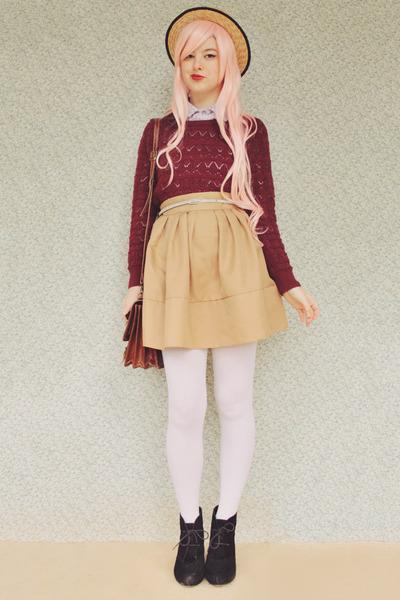bag: (123, 300, 163, 369)
hat: (165, 0, 250, 76)
shirt: (128, 113, 300, 295)
shoe: (174, 507, 236, 585)
skirt: (137, 180, 288, 361)
